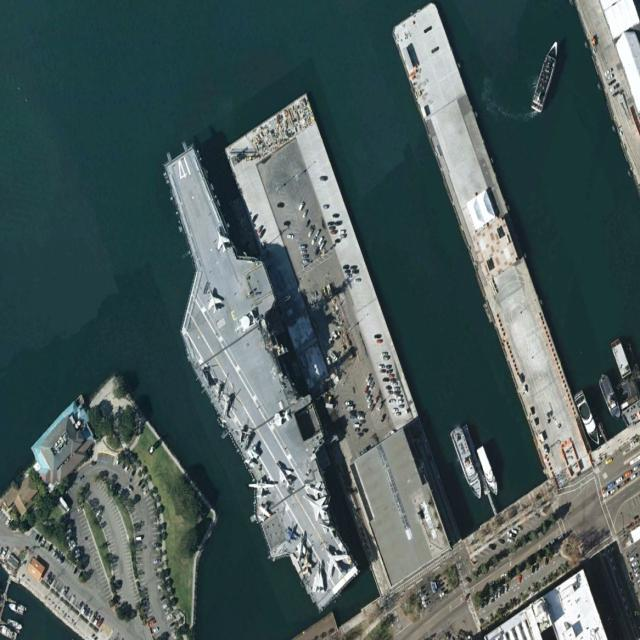Other Ship: (129, 126, 374, 638), (449, 423, 485, 505), (530, 35, 562, 114), (572, 390, 602, 449), (476, 444, 501, 499), (597, 372, 623, 424)
